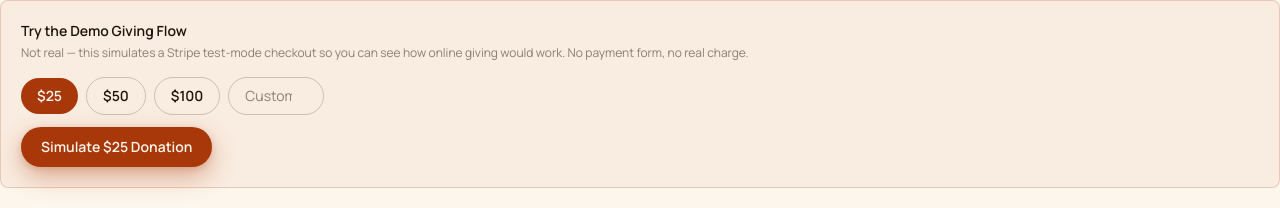
it: DemoDonationForm › switches the submit label when a different preset is chosen
This screenshot has width=1280, height=208.
Click the button "$100".
click(187, 96)  # box x1=154 y1=77 x2=220 y2=115
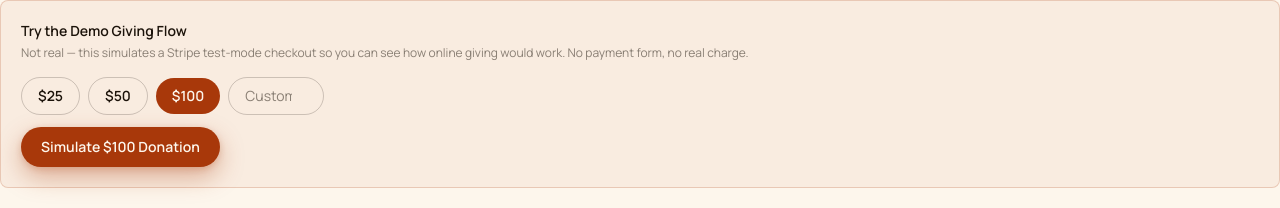
Now the button "Simulate $100 Donation" is shown, box x1=21 y1=127 x2=220 y2=167
